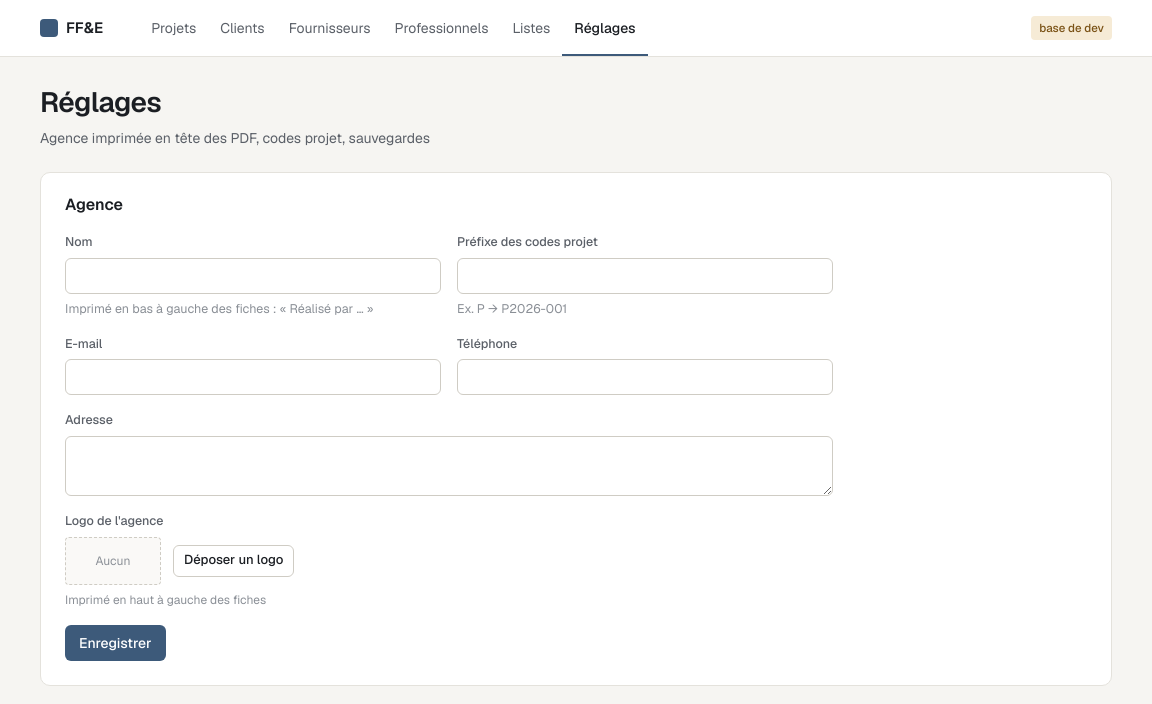
Test: page Réglages › 422 du serveur : message sous le champ, rien d’enregistré
Type "nope" into the field labelled "E-mail" at x=253, y=377, box top-left (65, 359), bottom-right (441, 395)
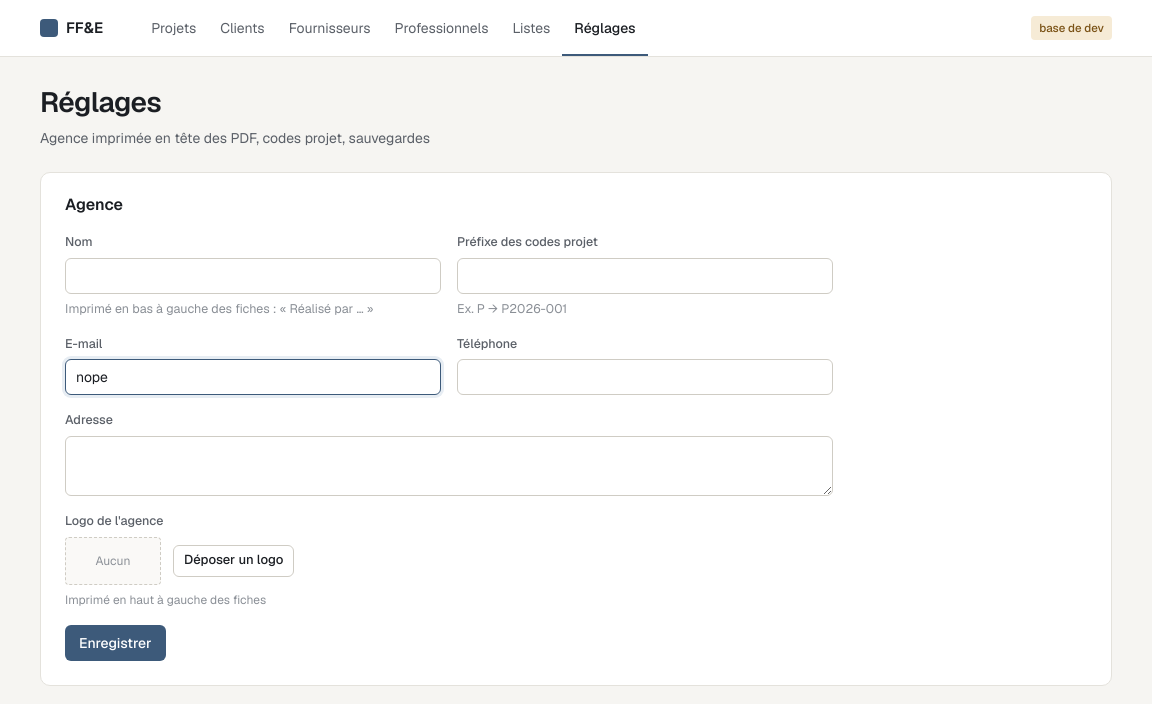
Click the button "Enregistrer" at x=115, y=643, box top-left (65, 625), bottom-right (166, 661)
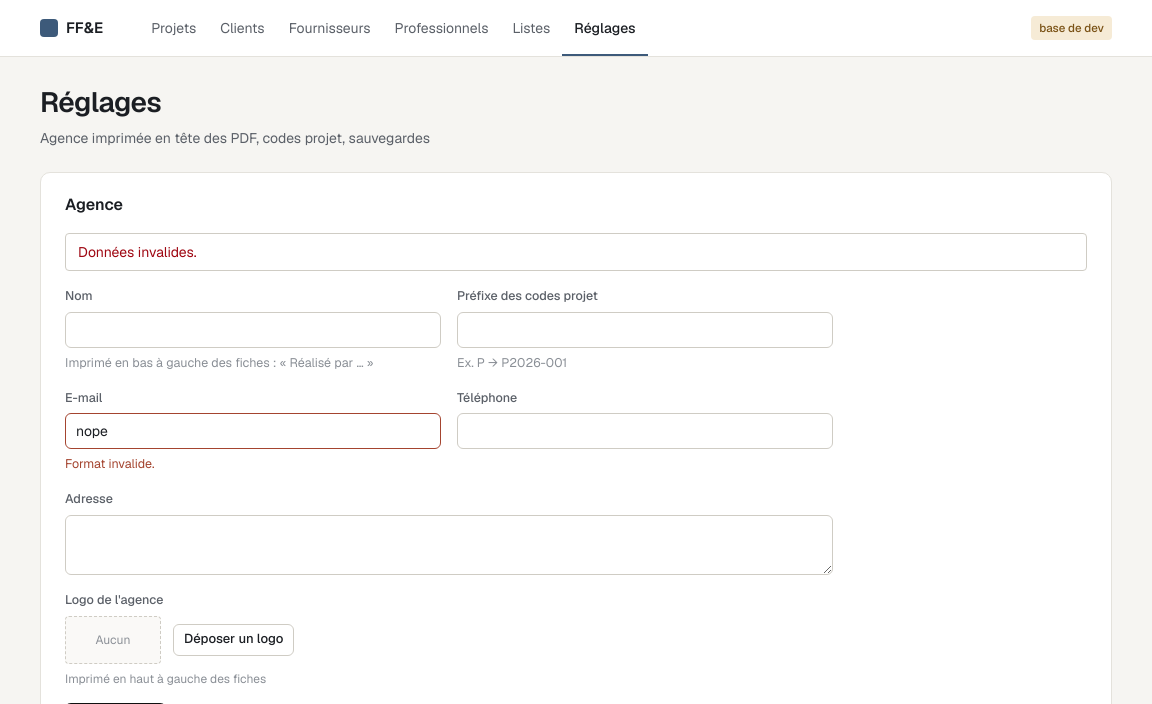
Expected: the text "Format invalide." is shown, top-left (65, 455), bottom-right (155, 472)
